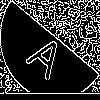A: (25, 25, 74, 82)
